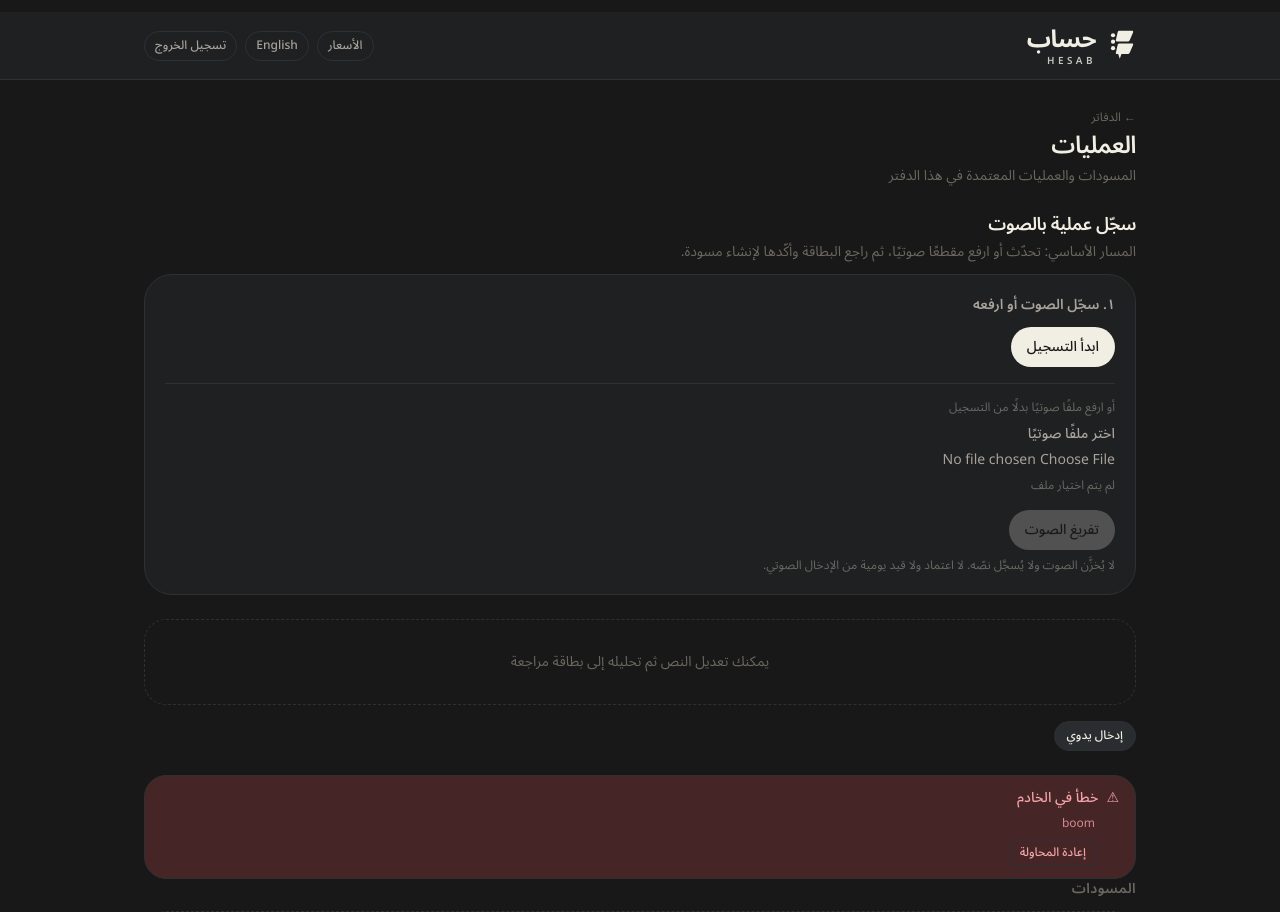
TransactionsListView › reports a load failure and recovers when the user retries
Expected: the message shows "خطأ في الخادم", 1017,784 -> 1098,812
Step 1. Click the button "إعادة المحاولة" → [1053, 854], box 1011,840 -> 1095,866
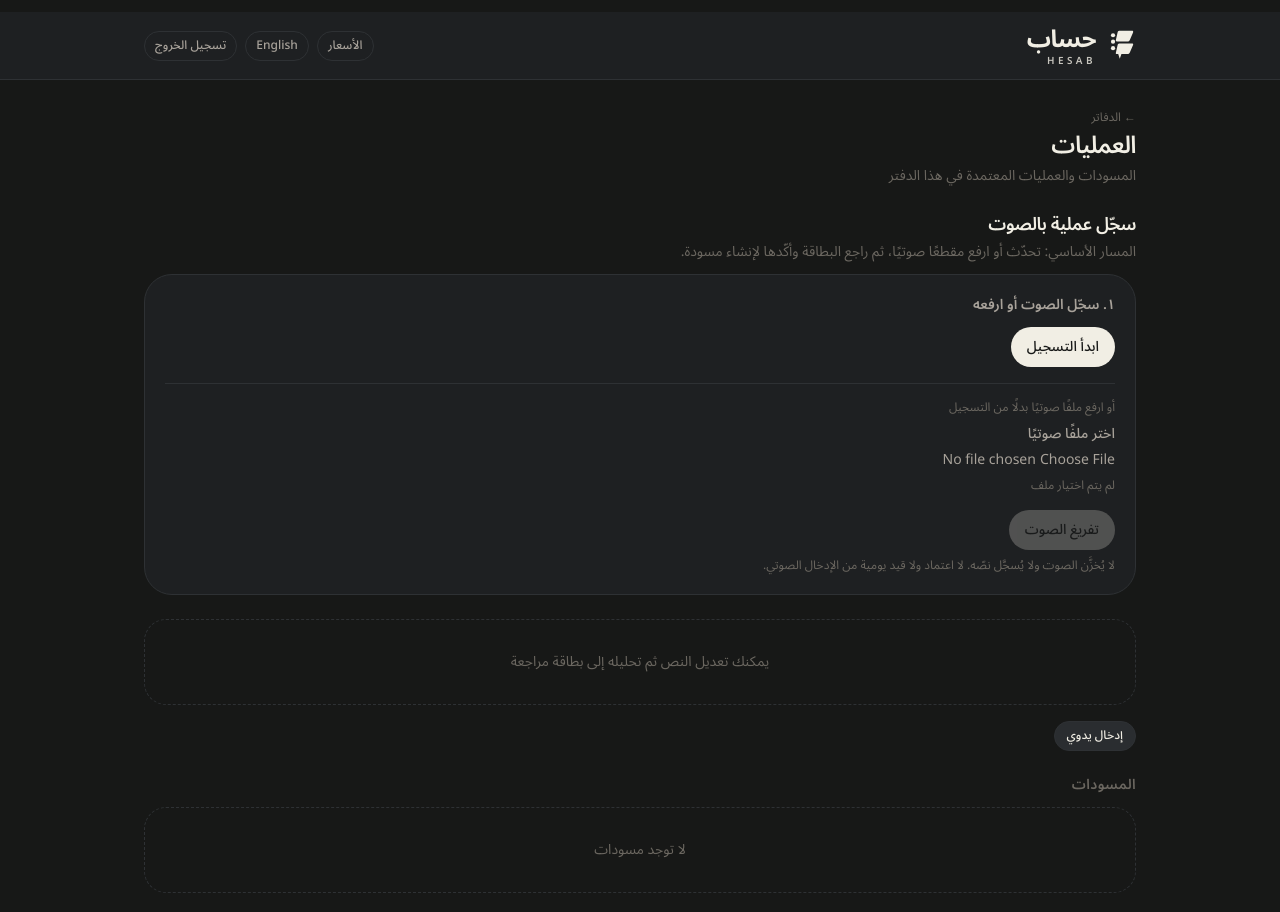
Expected: the text "لا توجد مسودات" is shown, 144,808 -> 1136,894
Expected: the message "⚠ خطأ في الخادم boom إعادة المحاولة" is gone
